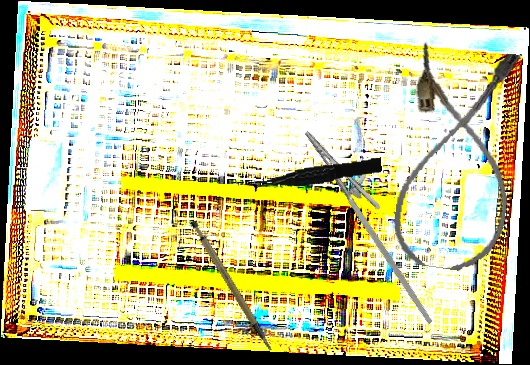Cannula: (388, 40, 528, 277)
Needle Holder: (283, 119, 467, 325)
Scalpel Handle: (188, 212, 273, 361)
Tissue Forceps: (255, 157, 383, 191)
